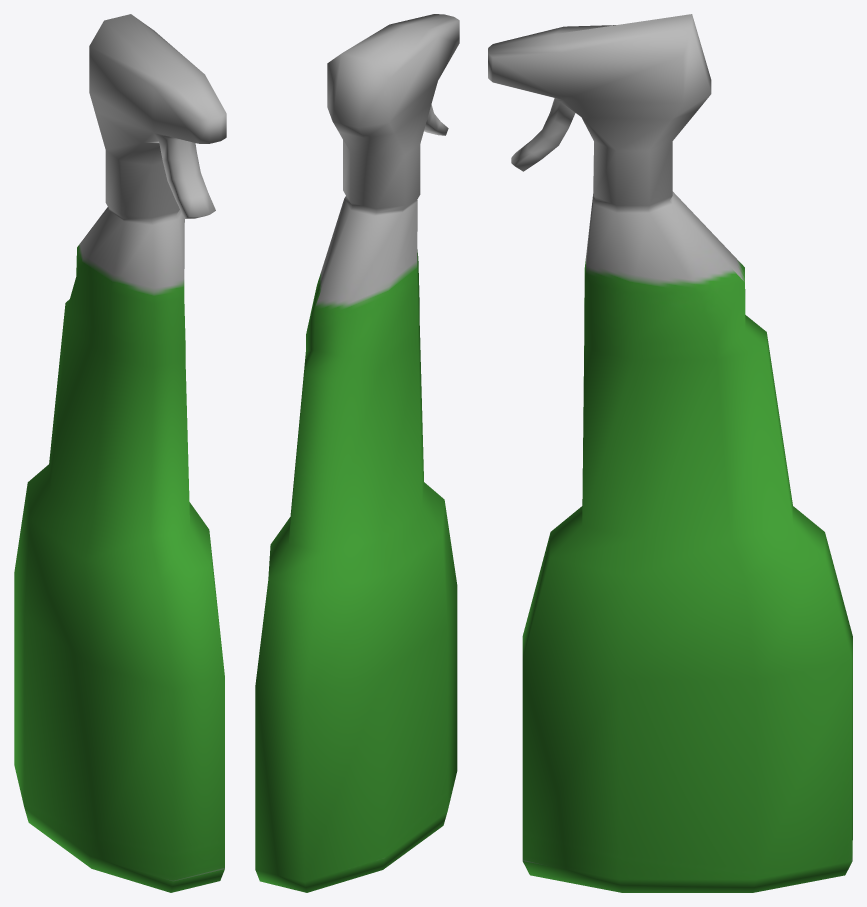
Rendered from detergent-spray.glb.
The picture shows the model from 3 angles, left to right: view 1: azimuth 30°, elevation 25°; view 2: azimuth 150°, elevation 25°; view 3: azimuth 270°, elevation 25°; orthographic projection. The views are drawn at different scales.
Visible parts, largest first — view 1: spray; view 2: spray; view 3: spray.
Part boxes in pixels (x1,y1,x2,y2): spray: (14,14,226,892); spray: (255,14,459,892); spray: (488,14,852,892).
Bounding box in the file's own units: 0.0811 × 0.5055 × 0.1984.
Materials: 1 (1 with a texture image).
